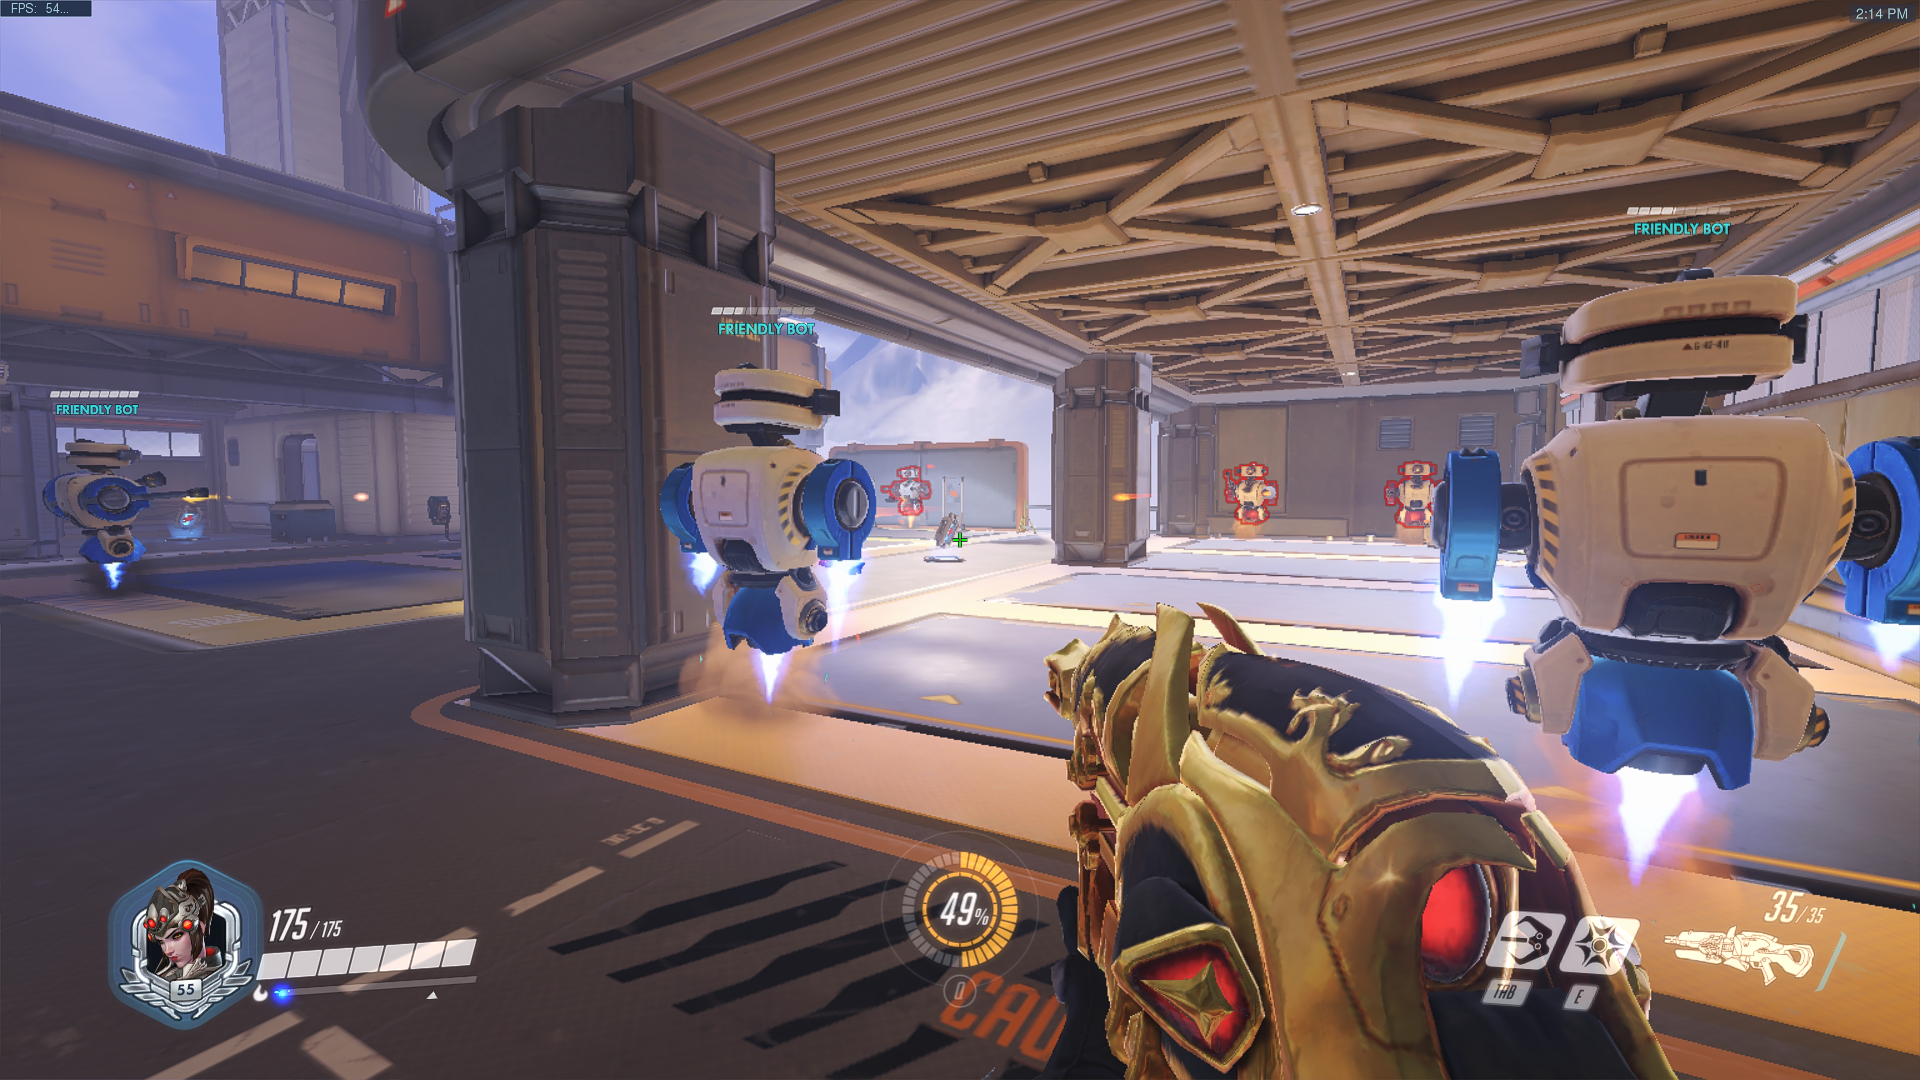head: (1546, 277, 1808, 404), (696, 366, 859, 429), (54, 435, 148, 475), (1394, 459, 1434, 481), (1227, 464, 1269, 482), (892, 462, 924, 479)
